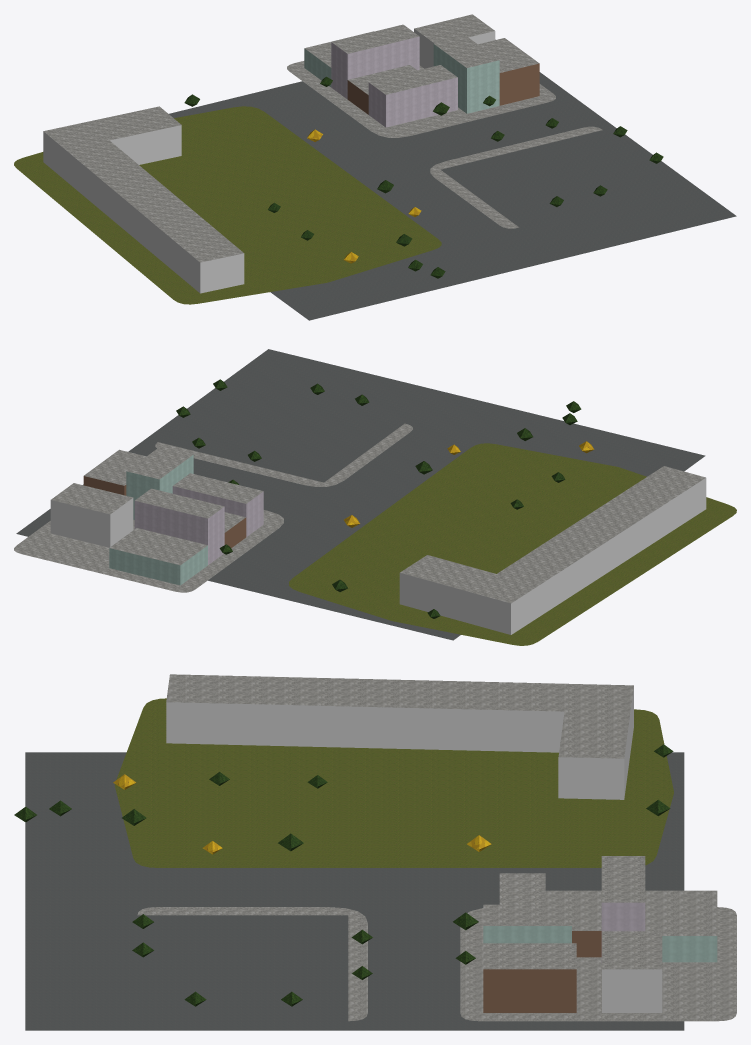
File: cidade_S02_05_lod.gltf
The picture shows the model from 3 angles, top to bottom: view 1: azimuth 30°, elevation 25°; view 2: azimuth 150°, elevation 25°; view 3: azimuth 270°, elevation 25°; orthographic projection. The views are drawn at different scales.
Visible parts, largest first — view 1: S02_05_Chao_LOD2, S02_05_Edificios_LOD1, S02_05_Vegetacao_LOD2; view 2: S02_05_Chao_LOD2, S02_05_Edificios_LOD1, S02_05_Vegetacao_LOD2; view 3: S02_05_Chao_LOD2, S02_05_Edificios_LOD1, S02_05_Vegetacao_LOD2.
Boxes of the visible parts, x1=… form: S02_05_Chao_LOD2: x1=14, y1=39, x2=736, y2=320; S02_05_Edificios_LOD1: x1=43, y1=14, x2=539, y2=293; S02_05_Vegetacao_LOD2: x1=184, y1=76, x2=663, y2=278; S02_05_Chao_LOD2: x1=14, y1=349, x2=736, y2=645; S02_05_Edificios_LOD1: x1=50, y1=446, x2=706, y2=634; S02_05_Vegetacao_LOD2: x1=176, y1=379, x2=594, y2=618; S02_05_Chao_LOD2: x1=25, y1=698, x2=736, y2=1030; S02_05_Edificios_LOD1: x1=166, y1=674, x2=717, y2=1012; S02_05_Vegetacao_LOD2: x1=14, y1=744, x2=673, y2=1006.
Bounding box in the file's own units: 119 × 10.37 × 110.
9 materials, 9 textured.
